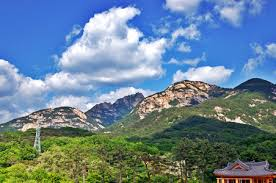mountain: (14, 83, 276, 179)
sky: (2, 2, 274, 81)
